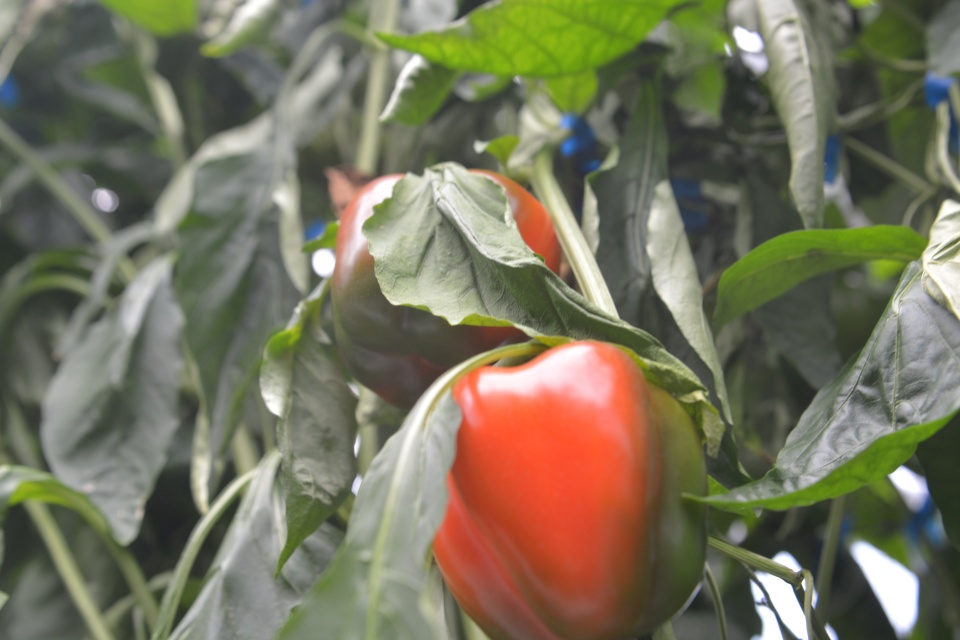fruit: (428, 339, 709, 640), (328, 164, 574, 414)
